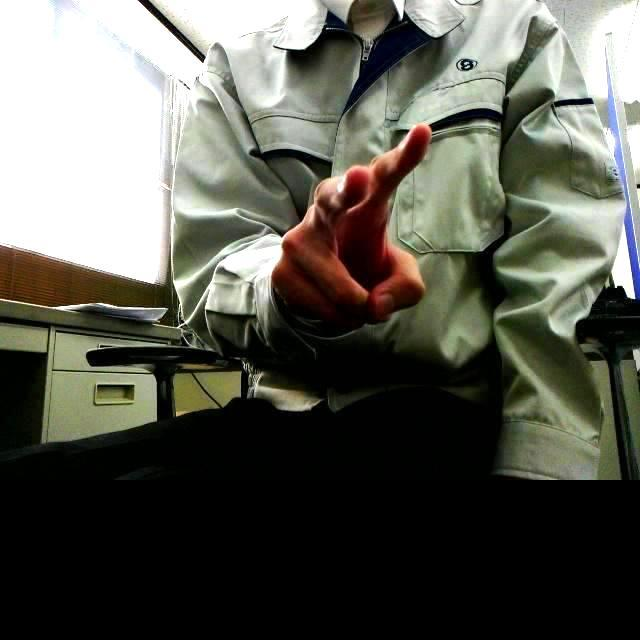tyoki: (271, 121, 431, 327)
